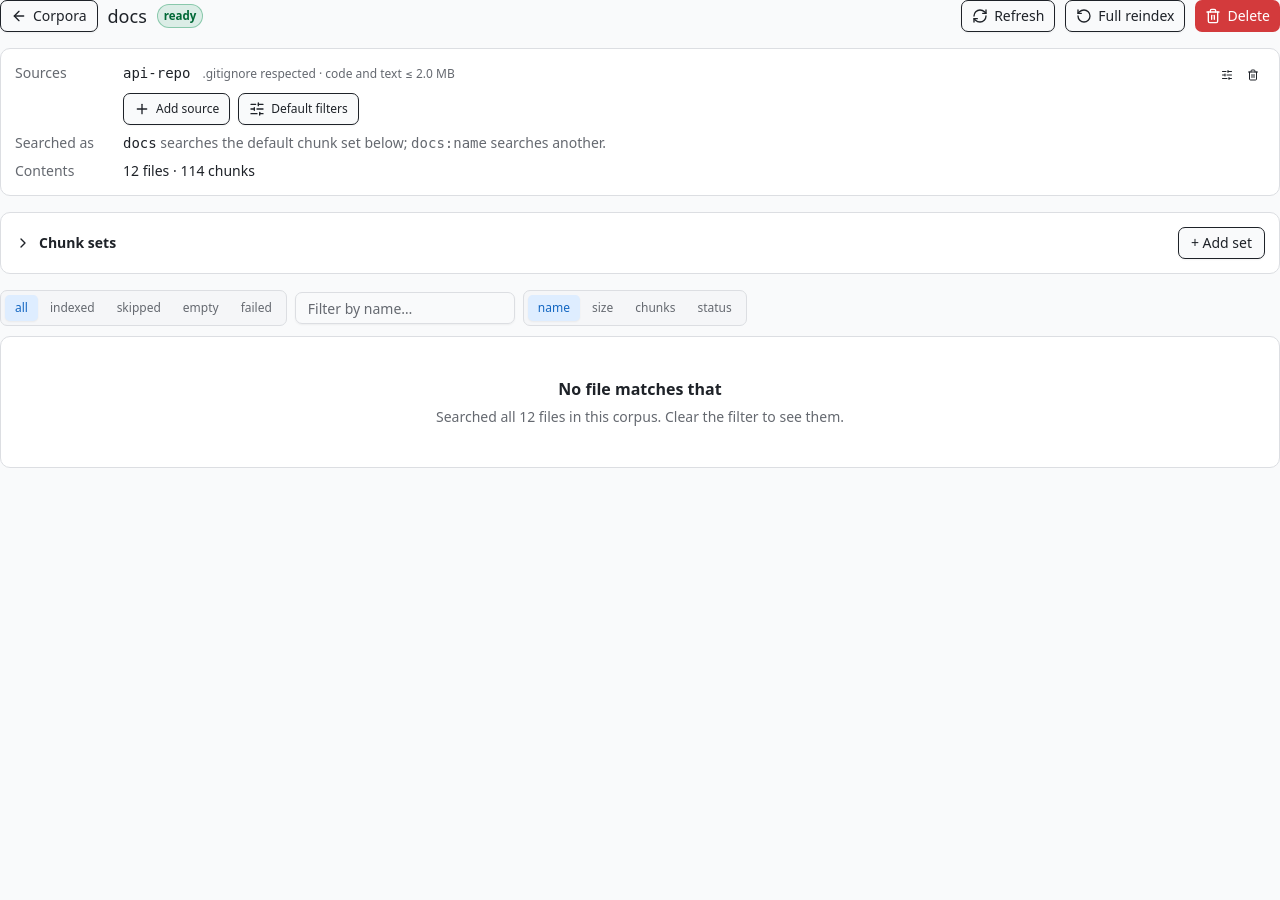
Test: adding a source › offers only folders that are really mounted
Click the button "Add source" at (177, 109), box [123, 93, 230, 125]
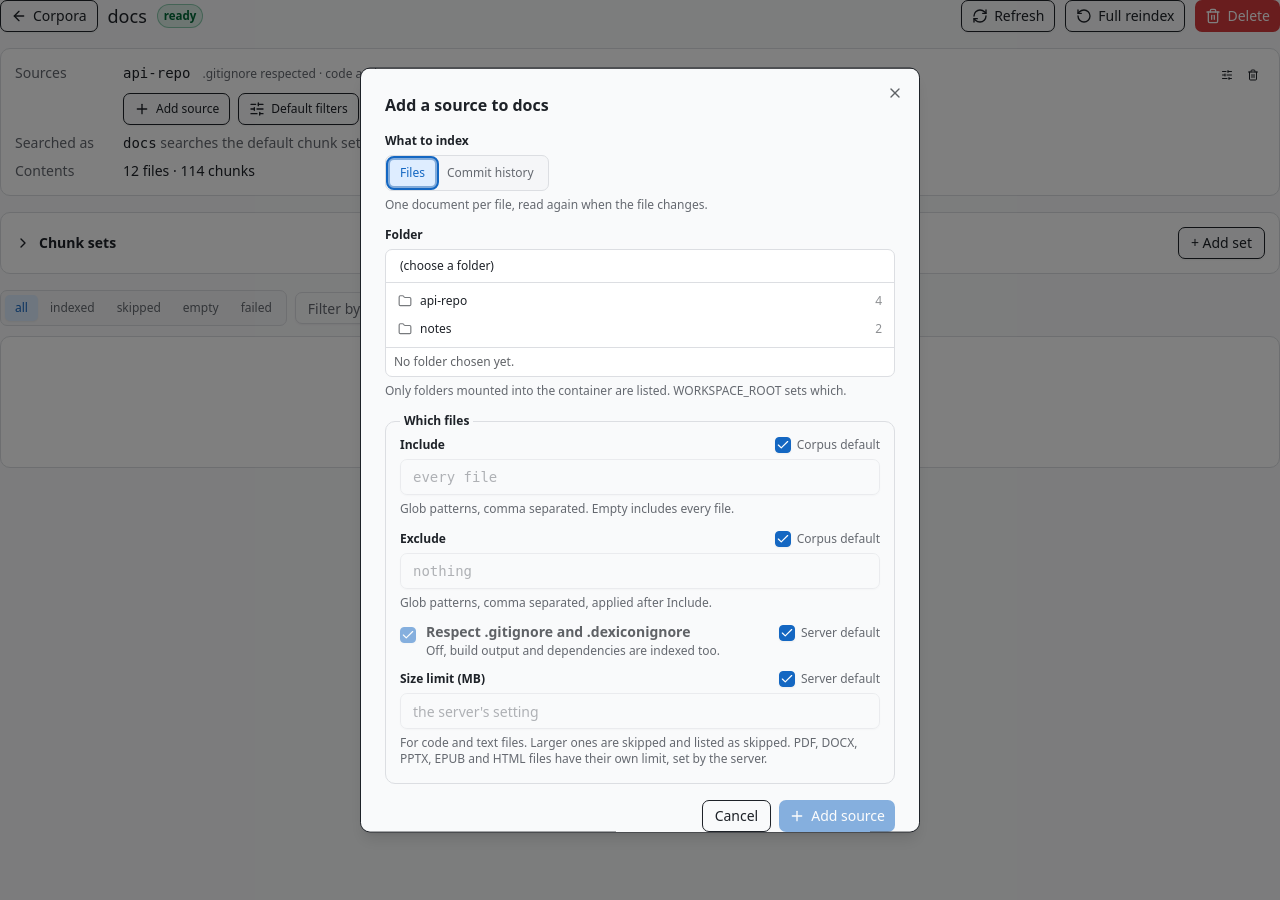
Expected: the button "api-repo 4" is shown, [390, 286, 890, 314]
Expected: the button "notes 2" is shown, [390, 314, 890, 342]
